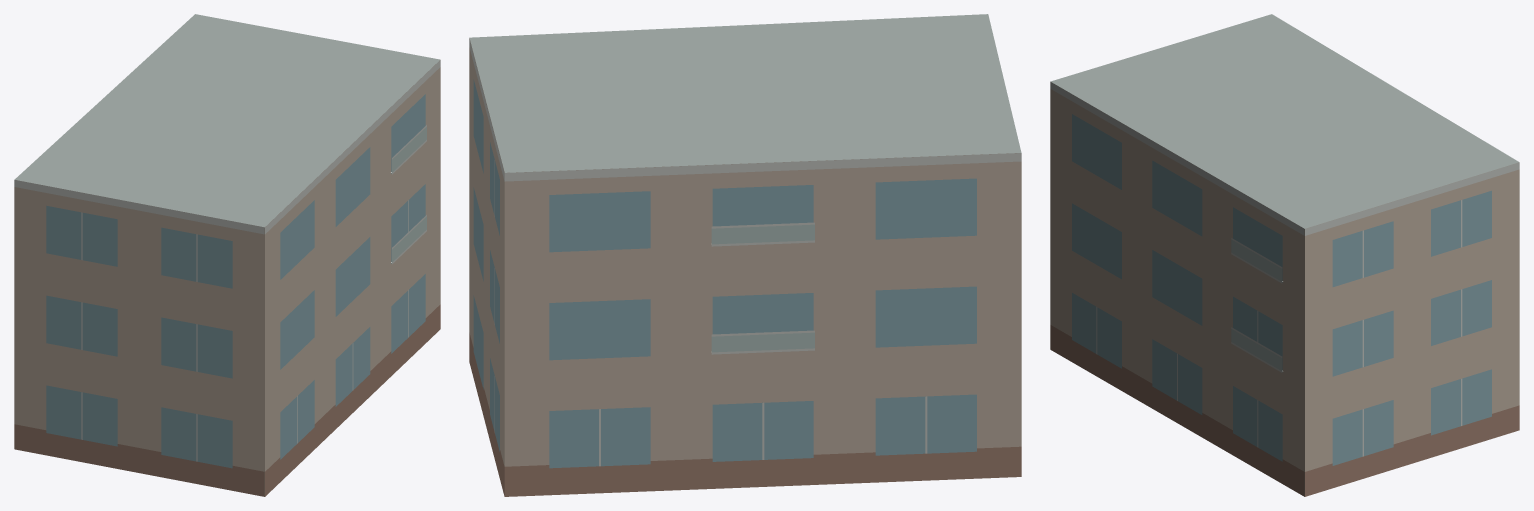
File: survey-upis-32983093.glb
3 renders of one model, left to right at view 1: azimuth 30°, elevation 25°; view 2: azimuth 150°, elevation 25°; view 3: azimuth 270°, elevation 25°, orthographic. The views are drawn at different scales.
Parts seen in each view (by area): view 1: survey-upis-32983093.tmp; view 2: survey-upis-32983093.tmp; view 3: survey-upis-32983093.tmp.
Part boxes in pixels (bbox=[...]): survey-upis-32983093.tmp: bbox=[14, 14, 440, 496]; survey-upis-32983093.tmp: bbox=[469, 14, 1021, 496]; survey-upis-32983093.tmp: bbox=[1050, 14, 1519, 496].
Size of the model in its own units: 15.74 by 9.15 by 14.53.
